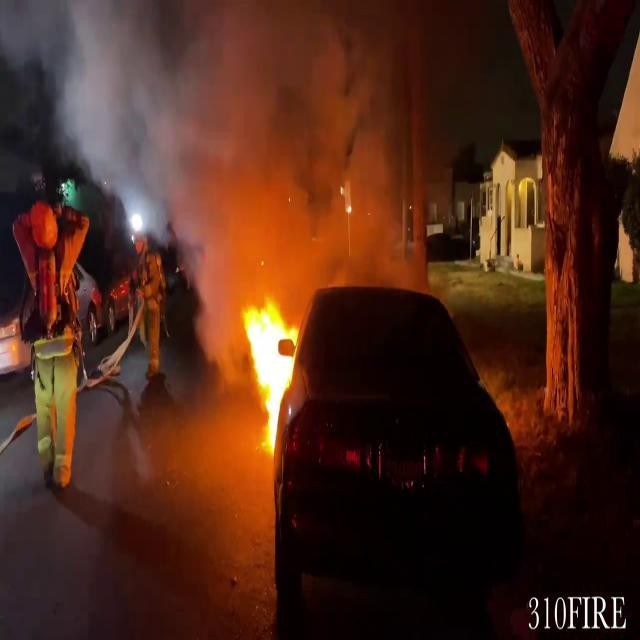Fire: (238, 293, 304, 451)
Smoke: (142, 0, 410, 294)
